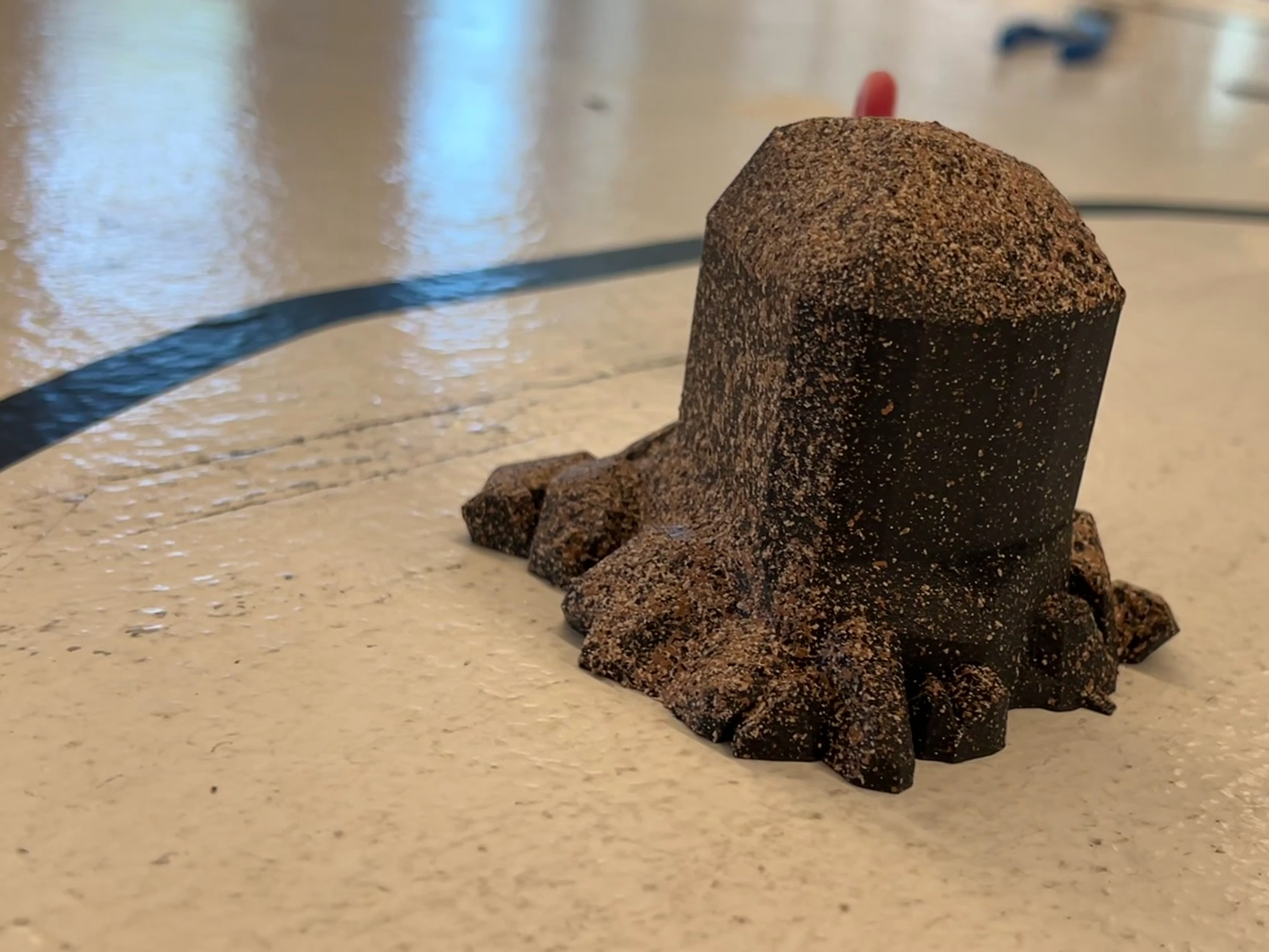teletubby: (853, 71, 897, 116)
